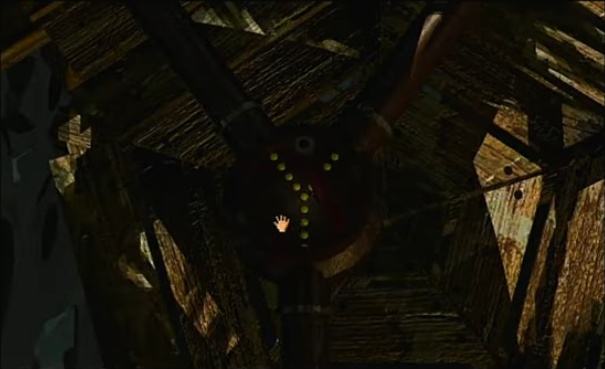Pointer: (272, 210, 294, 233)
